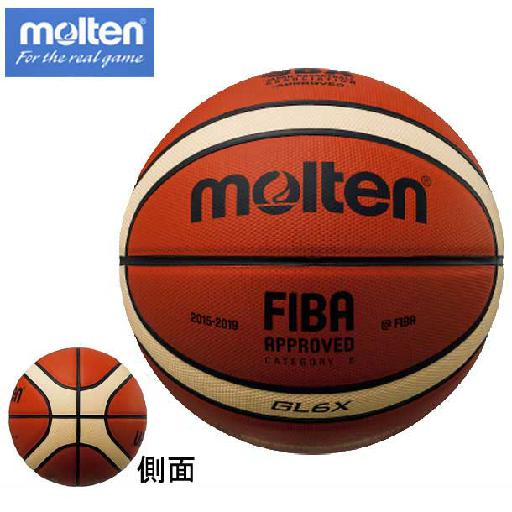ball: (8, 348, 145, 488)
